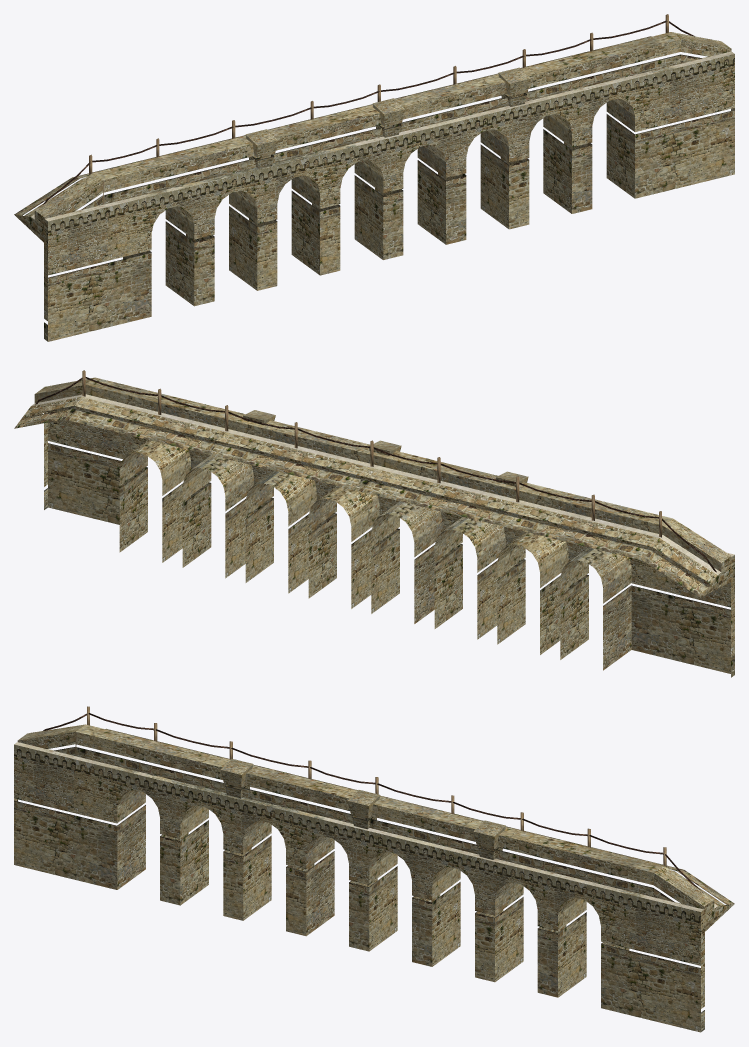
The model's file is bridge_edge_hele.dae.
The picture shows the model from 3 angles, top to bottom: view 1: azimuth 30°, elevation 25°; view 2: azimuth 150°, elevation 25°; view 3: azimuth 330°, elevation 25°; orthographic projection.
Visible parts, largest first — view 1: Cube; view 2: Cube; view 3: Cube.
Part boxes in pixels (x1=…): Cube: x1=14, y1=14, x2=734, y2=341; Cube: x1=14, y1=370, x2=734, y2=677; Cube: x1=14, y1=706, x2=734, y2=1032.
Size of the model in its own units: 64.32 by 5.75 by 14.38.
